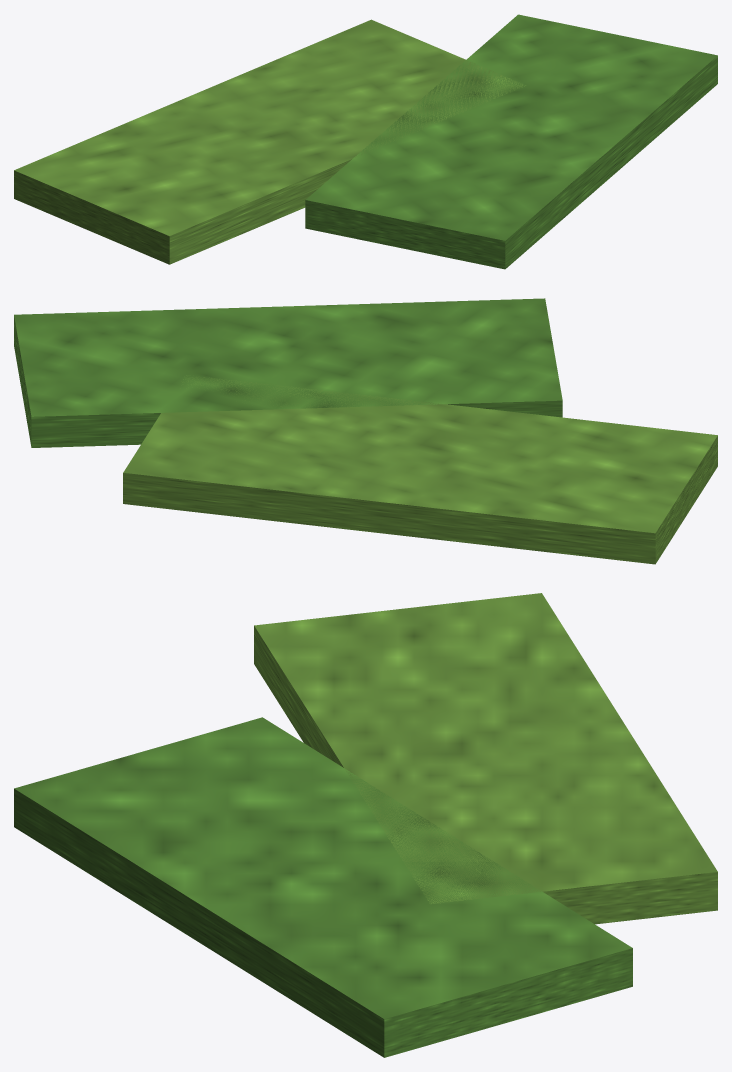
The model's file is Deco_Mousse_A.obj.
3 renders of one model, top to bottom at view 1: azimuth 30°, elevation 25°; view 2: azimuth 150°, elevation 25°; view 3: azimuth 270°, elevation 25°, orthographic. The views are drawn at different scales.
Visible parts, largest first — view 1: Deco_Mousse_A; view 2: Deco_Mousse_A; view 3: Deco_Mousse_A.
Boxes of the visible parts, left/top/right/bottom form: Deco_Mousse_A: left=14, top=14, right=717, bottom=269; Deco_Mousse_A: left=14, top=298, right=717, bottom=564; Deco_Mousse_A: left=14, top=593, right=717, bottom=1057.
Size of the model in its own units: 1.89 by 0.08 by 1.32.
Materials: 1 (1 with a texture image).
